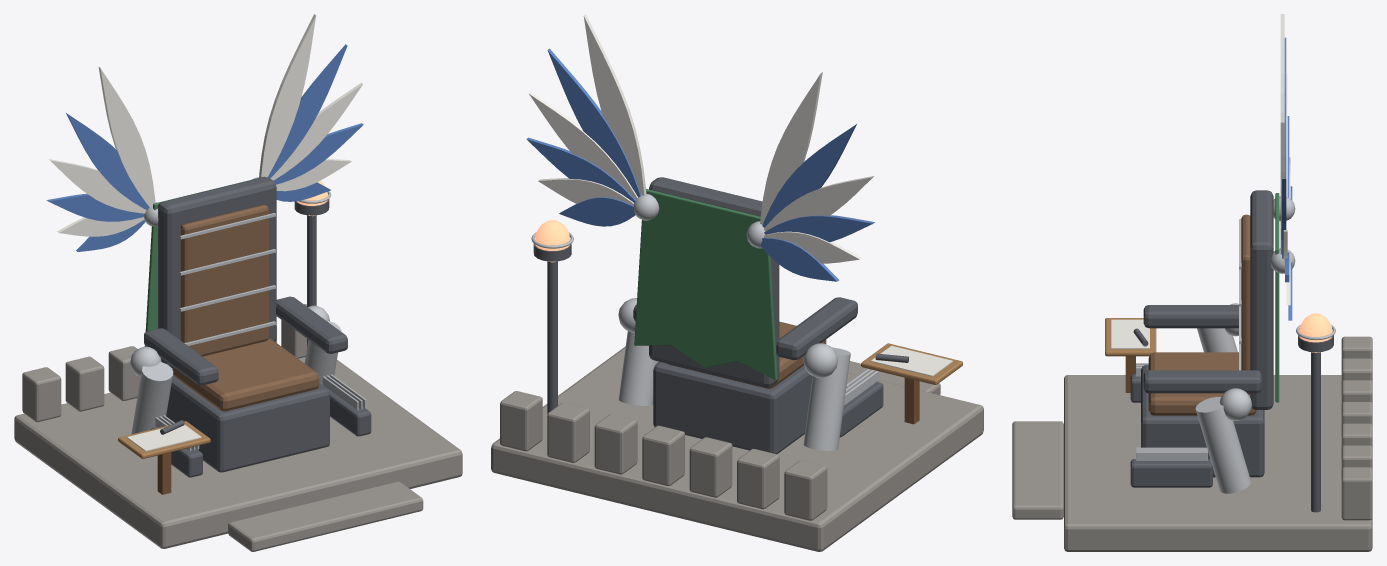
File: ScoutCommandChair.fbx
The picture shows the model from 3 angles, left to right: view 1: azimuth 30°, elevation 25°; view 2: azimuth 150°, elevation 25°; view 3: azimuth 270°, elevation 25°; orthographic projection. The views are drawn at different scales.
Visible parts, largest first — view 1: Platform, Back_Cushion, Wing_L, Wing_R, Seat_Base, Back, Step, Seat, Armrest_L, GasTank_L, Armrest_R, Battlement_2 (+12 smaller); view 2: Platform, Cloak, Wing_R, Wing_L, Seat_Base, Back, GasTank_L, Armrest_L, Battlement_1, Battlement_3, Battlement_5, Battlement_6 (+13 smaller); view 3: Platform, Step, Back, Seat_Base, Seat, GasTank_R, Armrest_R, Armrest_L, Blade_Case_R, Battlement_7, Wing_R, Alarm_Post (+15 smaller).
Boxes of the visible parts, box(x1,y1,x2,y2) form: Platform: box(14, 357, 462, 548); Back_Cushion: box(180, 205, 268, 356); Wing_L: box(46, 67, 158, 251); Wing_R: box(252, 14, 363, 201); Seat_Base: box(166, 374, 329, 472); Back: box(158, 177, 276, 367); Step: box(228, 481, 423, 551); Seat: box(172, 338, 319, 411); Armrest_L: box(144, 328, 218, 385); GasTank_L: box(131, 362, 173, 434); Armrest_R: box(276, 296, 347, 353); Battlement_2: box(65, 356, 104, 411); Platform: box(491, 346, 983, 551); Cloak: box(634, 189, 777, 379); Wing_R: box(526, 14, 659, 226); Wing_L: box(746, 72, 874, 281); Seat_Base: box(653, 347, 832, 454); Back: box(649, 177, 779, 387); GasTank_L: box(803, 347, 850, 450); Armrest_L: box(776, 297, 857, 360); Battlement_1: box(784, 460, 827, 520); Battlement_3: box(689, 437, 732, 497); Battlement_5: box(594, 414, 637, 474); Battlement_6: box(547, 402, 589, 462); Platform: box(1064, 375, 1372, 551); Step: box(1012, 421, 1063, 519); Back: box(1250, 190, 1273, 409); Seat_Base: box(1141, 365, 1264, 477); Seat: box(1148, 352, 1256, 415); GasTank_R: box(1195, 396, 1250, 493); Armrest_R: box(1143, 370, 1261, 393); Armrest_L: box(1143, 305, 1238, 328); Blade_Case_R: box(1130, 459, 1212, 487); Battlement_7: box(1341, 467, 1372, 520); Wing_R: box(1270, 122, 1295, 320); Alarm_Post: box(1311, 352, 1320, 512).
Size of the model in its own units: 7.32 by 8.77 by 7.
